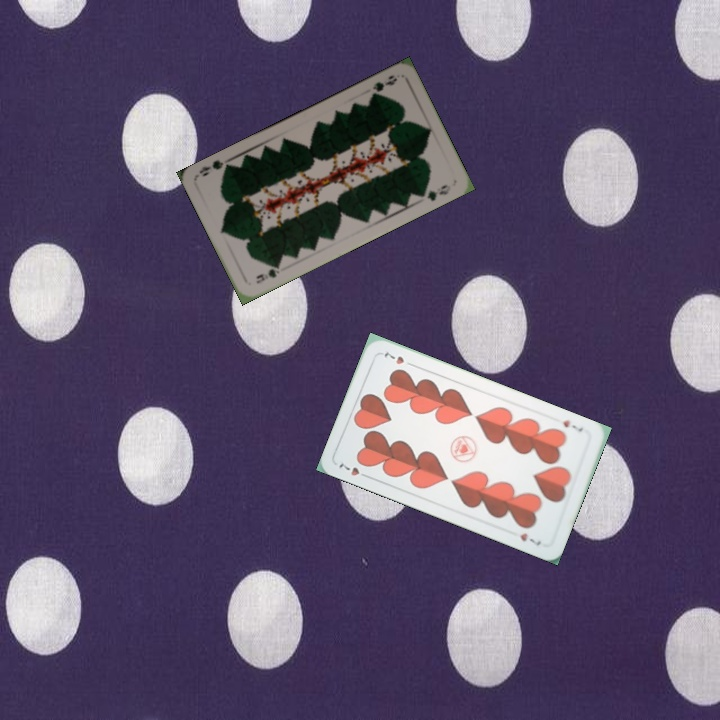G9: (367, 71, 400, 101), (252, 259, 283, 286)
H7: (335, 459, 373, 481), (559, 416, 586, 435)
